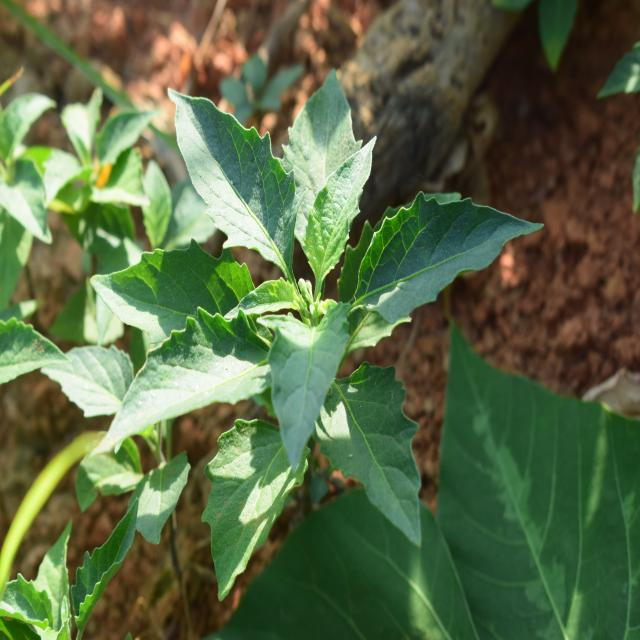Black_nightshade: (138, 107, 463, 525)
